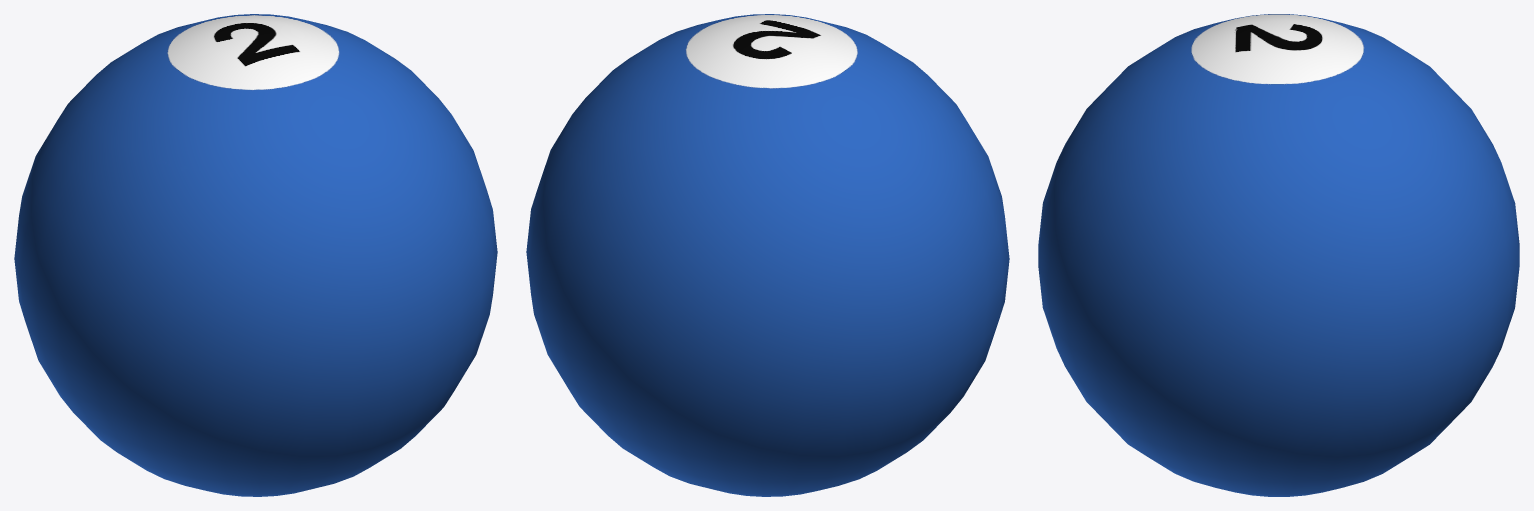
File: 2Ball.glb
The picture shows the model from 3 angles, left to right: view 1: azimuth 30°, elevation 25°; view 2: azimuth 150°, elevation 25°; view 3: azimuth 270°, elevation 25°; orthographic projection.
Parts seen in each view (by area): view 1: SphereSolid; view 2: SphereSolid; view 3: SphereSolid.
Part boxes in pixels (box(x1,y1,x2,y2)): SphereSolid: box(14, 14, 497, 496); SphereSolid: box(526, 14, 1009, 496); SphereSolid: box(1038, 14, 1519, 496).
Size of the model in its own units: 0.1991 by 0.2 by 0.1991.
1 material, 1 textured.
